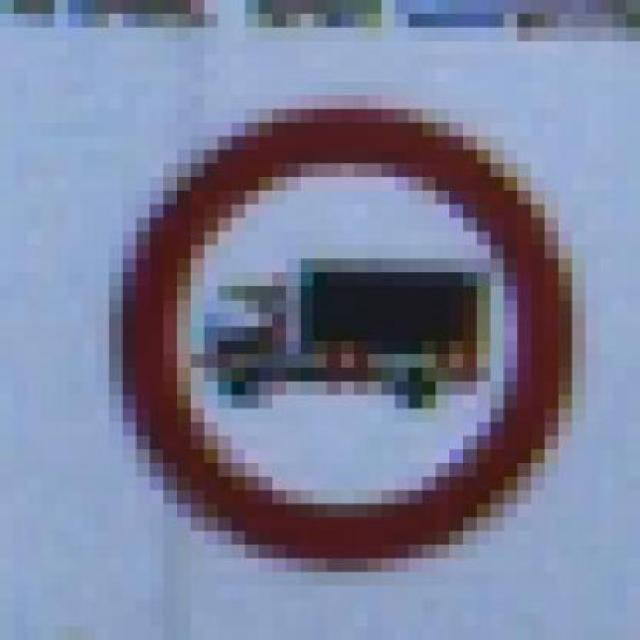Truck traffic is prohibited: (108, 82, 600, 586)
